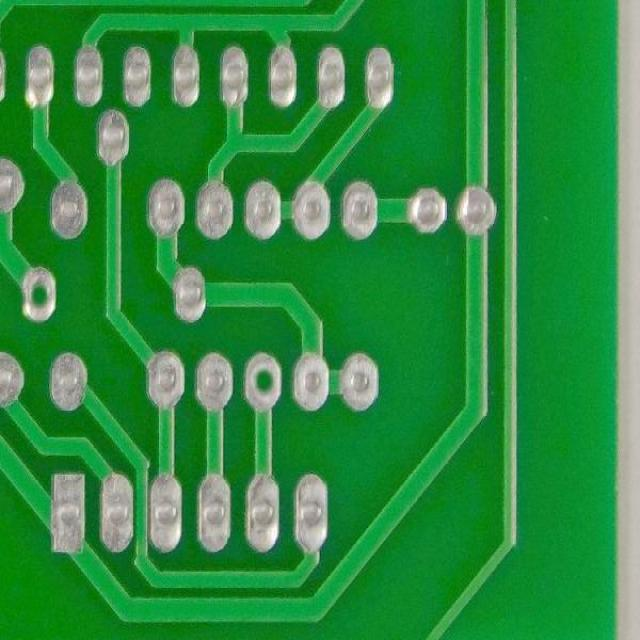missing hole: (13, 260, 63, 331), (241, 346, 286, 418)
